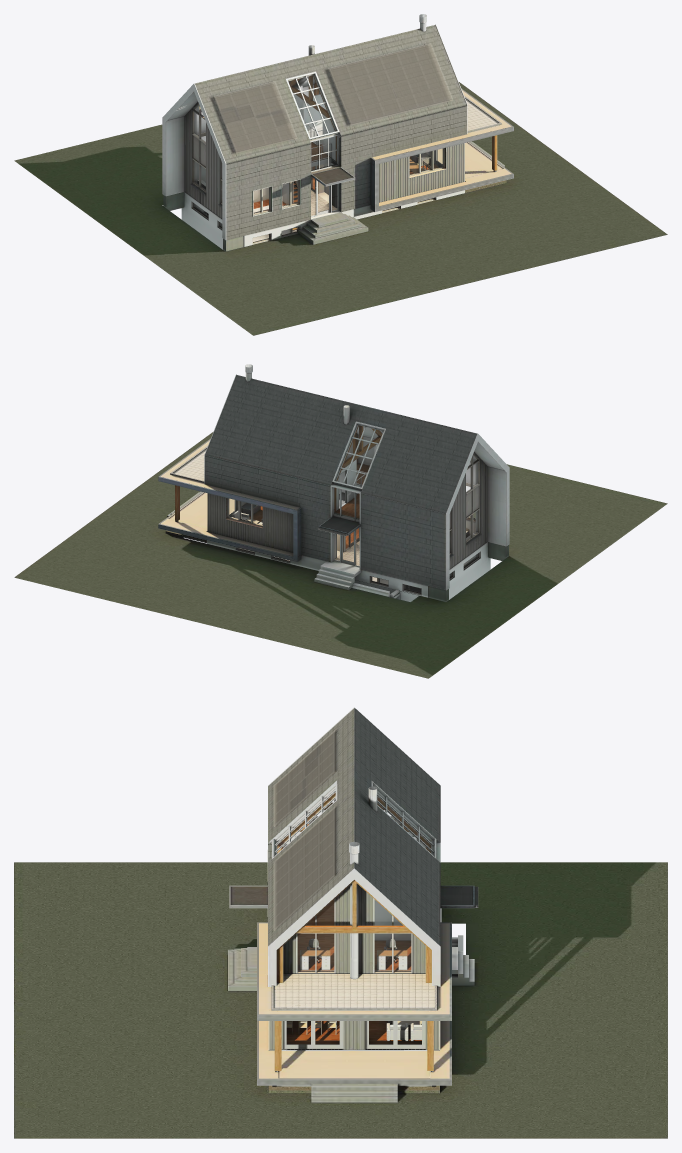
The model's file is villa-aalsmeer.glb.
3 renders of one model, top to bottom at view 1: azimuth 30°, elevation 25°; view 2: azimuth 150°, elevation 25°; view 3: azimuth 270°, elevation 25°, orthographic. The views are drawn at different scales.
Visible parts, largest first — view 1: Terrain_53_Terrain_53Mat_0, Roof_9_Roof_9Mat_0, Solar Panels_18_Solar Panels_18Mat_0, Planken - alg. donker_10_Planken - alg. donker_10Mat_0, Metal works_24_Metal works_24Mat_0, Beton - donker_2_Beton - donker_2Mat_0, Miscellaneous_39_Miscellaneous_39Mat_0, Stucwerk - wit fijn_6_Stucwerk - wit fijn_6Mat_0, Hout - Vuren vert. nerf_3_Hout - Vuren vert. nerf_3Mat_0, Painted materials_31_Painted materials_31Mat_0, Hout - Vuren hor. nerf_4_Hout - Vuren hor. nerf_4Mat_0, Beton - algemeen_1_Beton - algemeen_1Mat_0 (+3 smaller); view 2: Terrain_53_Terrain_53Mat_0, Roof_9_Roof_9Mat_0, Metal works_24_Metal works_24Mat_0, Planken - alg. donker_10_Planken - alg. donker_10Mat_0, Beton - donker_2_Beton - donker_2Mat_0, Miscellaneous_39_Miscellaneous_39Mat_0, Stucwerk - wit fijn_6_Stucwerk - wit fijn_6Mat_0, Hout - Vuren vert. nerf_3_Hout - Vuren vert. nerf_3Mat_0, Beton - algemeen_1_Beton - algemeen_1Mat_0, Hout - Vuren hor. nerf_4_Hout - Vuren hor. nerf_4Mat_0, Painted materials_31_Painted materials_31Mat_0, Wood works_19_Wood works_19Mat_0 (+2 smaller); view 3: Terrain_53_Terrain_53Mat_0, Roof_9_Roof_9Mat_0, Hout - Vuren vert. nerf_3_Hout - Vuren vert. nerf_3Mat_0, Metal works_24_Metal works_24Mat_0, Solar Panels_18_Solar Panels_18Mat_0, Tegels - cremewit 300x300mm_7_Tegels - cremewit 300x300mm_7M, Miscellaneous_39_Miscellaneous_39Mat_0, Planken - alg. donker_10_Planken - alg. donker_10Mat_0, Beton - algemeen_1_Beton - algemeen_1Mat_0, Parket - strokenpatroon_8_Parket - strokenpatroon_8Mat_0, Wood works_19_Wood works_19Mat_0, Painted materials_31_Painted materials_31Mat_0 (+2 smaller).
Part boxes in pixels (x1=…): Terrain_53_Terrain_53Mat_0: x1=14, y1=82, x2=667, y2=335; Roof_9_Roof_9Mat_0: x1=195, y1=25, x2=466, y2=239; Solar Panels_18_Solar Panels_18Mat_0: x1=213, y1=43, x2=452, y2=153; Planken - alg. donker_10_Planken - alg. donker_10Mat_0: x1=184, y1=102, x2=464, y2=218; Metal works_24_Metal works_24Mat_0: x1=184, y1=14, x2=513, y2=227; Beton - donker_2_Beton - donker_2Mat_0: x1=163, y1=190, x2=464, y2=251; Miscellaneous_39_Miscellaneous_39Mat_0: x1=162, y1=24, x2=501, y2=240; Stucwerk - wit fijn_6_Stucwerk - wit fijn_6Mat_0: x1=166, y1=76, x2=337, y2=208; Hout - Vuren vert. nerf_3_Hout - Vuren vert. nerf_3Mat_0: x1=312, y1=90, x2=511, y2=205; Painted materials_31_Painted materials_31Mat_0: x1=194, y1=71, x2=445, y2=216; Hout - Vuren hor. nerf_4_Hout - Vuren hor. nerf_4Mat_0: x1=192, y1=103, x2=444, y2=244; Beton - algemeen_1_Beton - algemeen_1Mat_0: x1=192, y1=141, x2=504, y2=244; Terrain_53_Terrain_53Mat_0: x1=14, y1=432, x2=667, y2=678; Roof_9_Roof_9Mat_0: x1=205, y1=375, x2=476, y2=590; Metal works_24_Metal works_24Mat_0: x1=158, y1=364, x2=487, y2=569; Planken - alg. donker_10_Planken - alg. donker_10Mat_0: x1=208, y1=452, x2=487, y2=569; Beton - donker_2_Beton - donker_2Mat_0: x1=207, y1=540, x2=508, y2=601; Miscellaneous_39_Miscellaneous_39Mat_0: x1=170, y1=374, x2=509, y2=590; Stucwerk - wit fijn_6_Stucwerk - wit fijn_6Mat_0: x1=347, y1=426, x2=505, y2=546; Hout - Vuren vert. nerf_3_Hout - Vuren vert. nerf_3Mat_0: x1=161, y1=440, x2=359, y2=555; Beton - algemeen_1_Beton - algemeen_1Mat_0: x1=167, y1=491, x2=480, y2=599; Hout - Vuren hor. nerf_4_Hout - Vuren hor. nerf_4Mat_0: x1=227, y1=453, x2=479, y2=594; Painted materials_31_Painted materials_31Mat_0: x1=226, y1=422, x2=478, y2=592; Wood works_19_Wood works_19Mat_0: x1=175, y1=425, x2=382, y2=531; Terrain_53_Terrain_53Mat_0: x1=14, y1=862, x2=667, y2=1138; Roof_9_Roof_9Mat_0: x1=268, y1=708, x2=440, y2=945; Hout - Vuren vert. nerf_3_Hout - Vuren vert. nerf_3Mat_0: x1=259, y1=905, x2=476, y2=1078; Metal works_24_Metal works_24Mat_0: x1=229, y1=781, x2=474, y2=1085; Solar Panels_18_Solar Panels_18Mat_0: x1=274, y1=730, x2=335, y2=930; Tegels - cremewit 300x300mm_7_Tegels - cremewit 300x300mm_7M: x1=273, y1=974, x2=434, y2=1008; Miscellaneous_39_Miscellaneous_39Mat_0: x1=230, y1=707, x2=477, y2=1010; Planken - alg. donker_10_Planken - alg. donker_10Mat_0: x1=269, y1=885, x2=438, y2=1049; Beton - algemeen_1_Beton - algemeen_1Mat_0: x1=228, y1=935, x2=474, y2=1102; Parket - strokenpatroon_8_Parket - strokenpatroon_8Mat_0: x1=286, y1=899, x2=421, y2=1044; Wood works_19_Wood works_19Mat_0: x1=268, y1=792, x2=440, y2=1070; Painted materials_31_Painted materials_31Mat_0: x1=267, y1=781, x2=478, y2=1049.
Size of the model in its own units: 30.29 by 13.37 by 30.29.
Materials: 23 (23 with a texture image).
